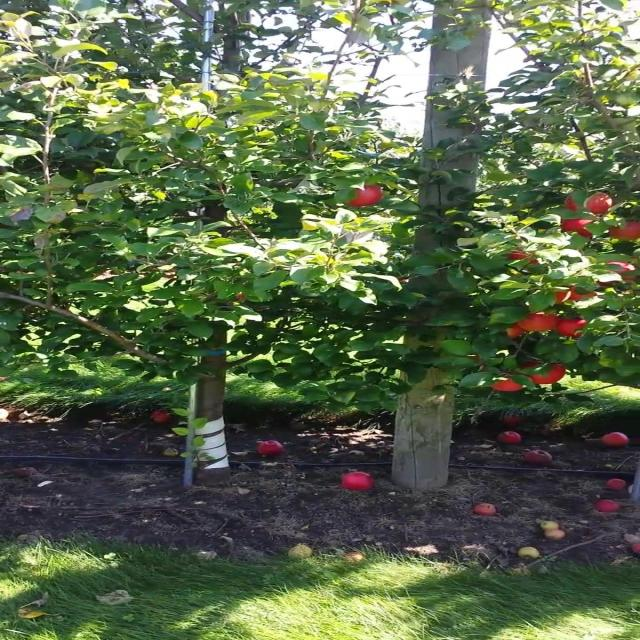apple: (568, 192, 617, 216), (525, 364, 569, 385), (518, 312, 560, 332), (568, 280, 604, 301), (348, 188, 384, 208), (561, 220, 594, 239), (611, 220, 639, 241), (568, 284, 601, 301), (561, 320, 590, 339), (611, 264, 638, 283), (490, 380, 526, 392), (511, 252, 540, 264), (511, 324, 526, 339), (554, 292, 571, 304)
